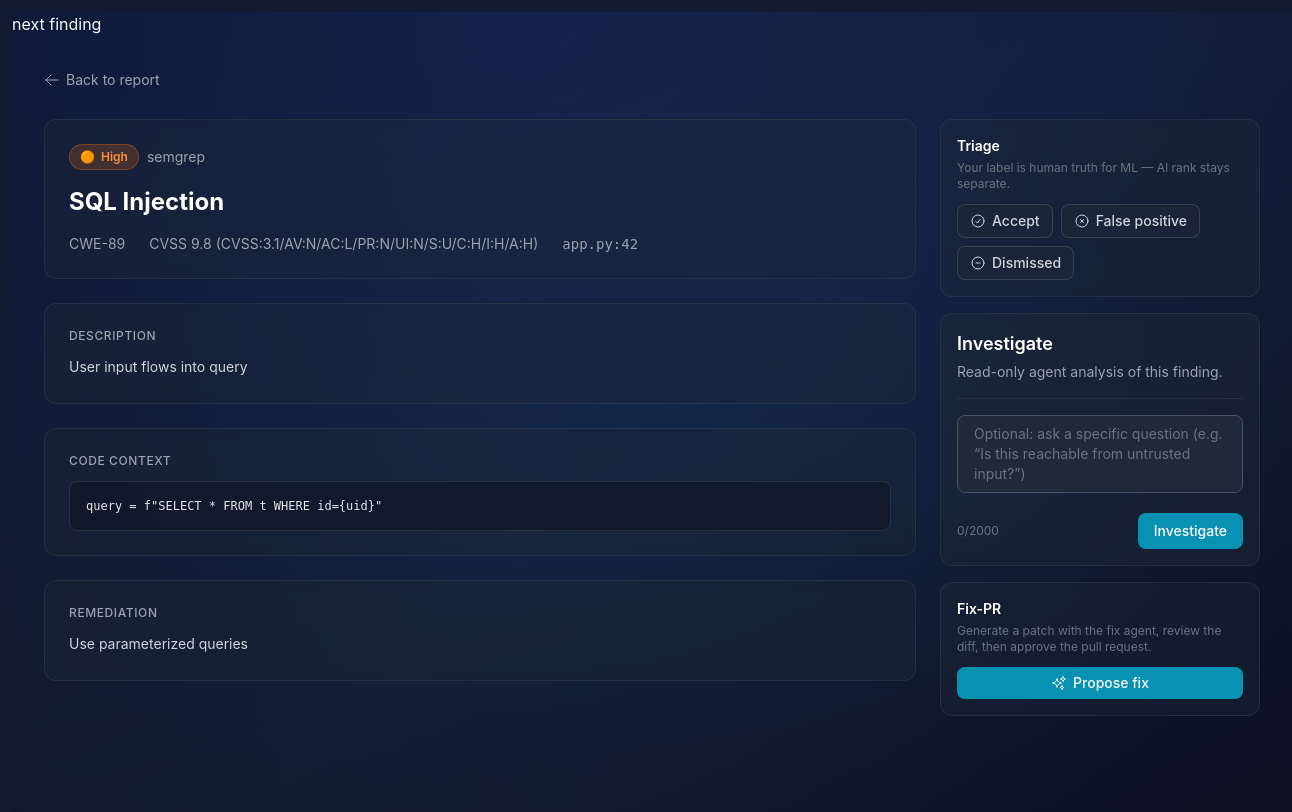
Test: FindingDetail › resets the investigate panel when navigating to another finding
This screenshot has width=1292, height=812.
Check: the heading "SQL Injection" is shown, box [69,187,224,216]
Check: the button "Investigate" is enabled, box [1138,513,1243,549]
Step 1. Type "why?" into the text box named "Investigation question" → (1100,454), box [957,415,1243,493]
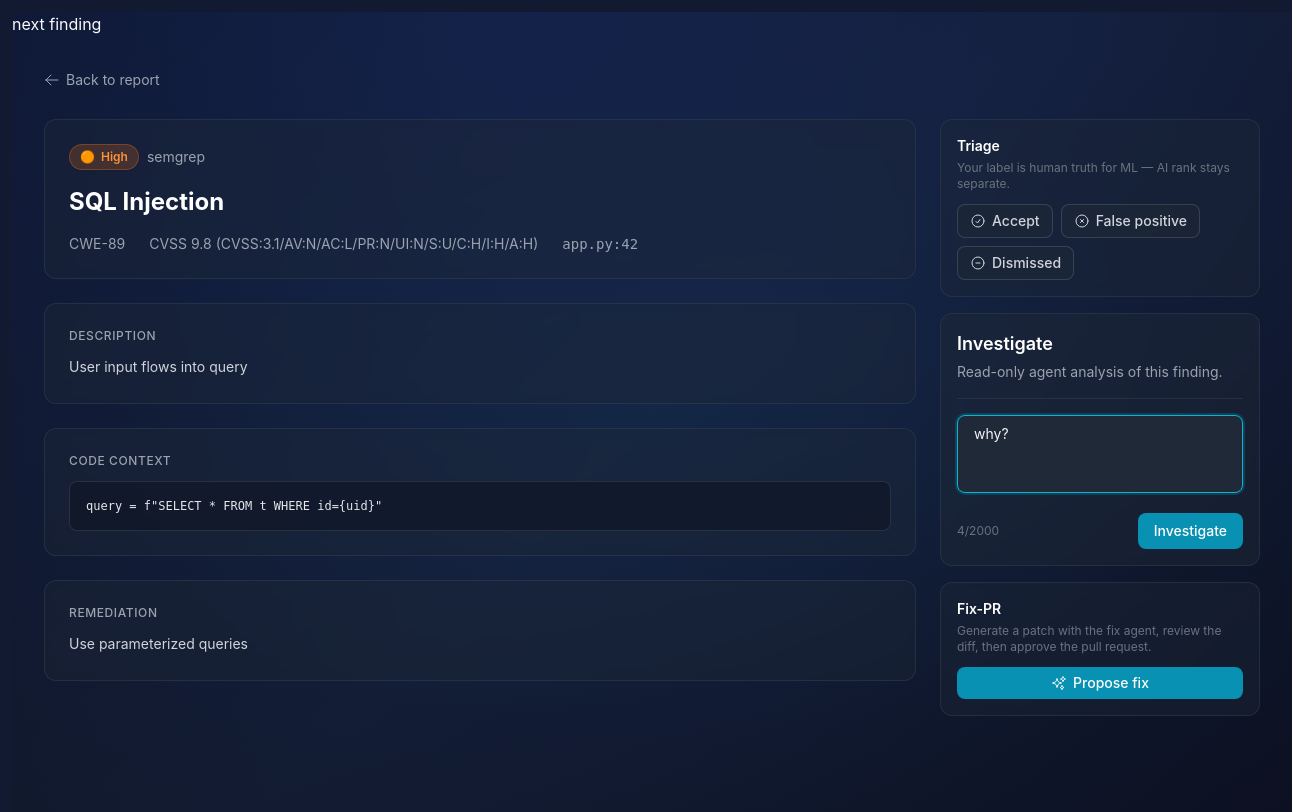
Step 2. Click the button "Investigate" → (1190,531), box [1138,513,1243,549]
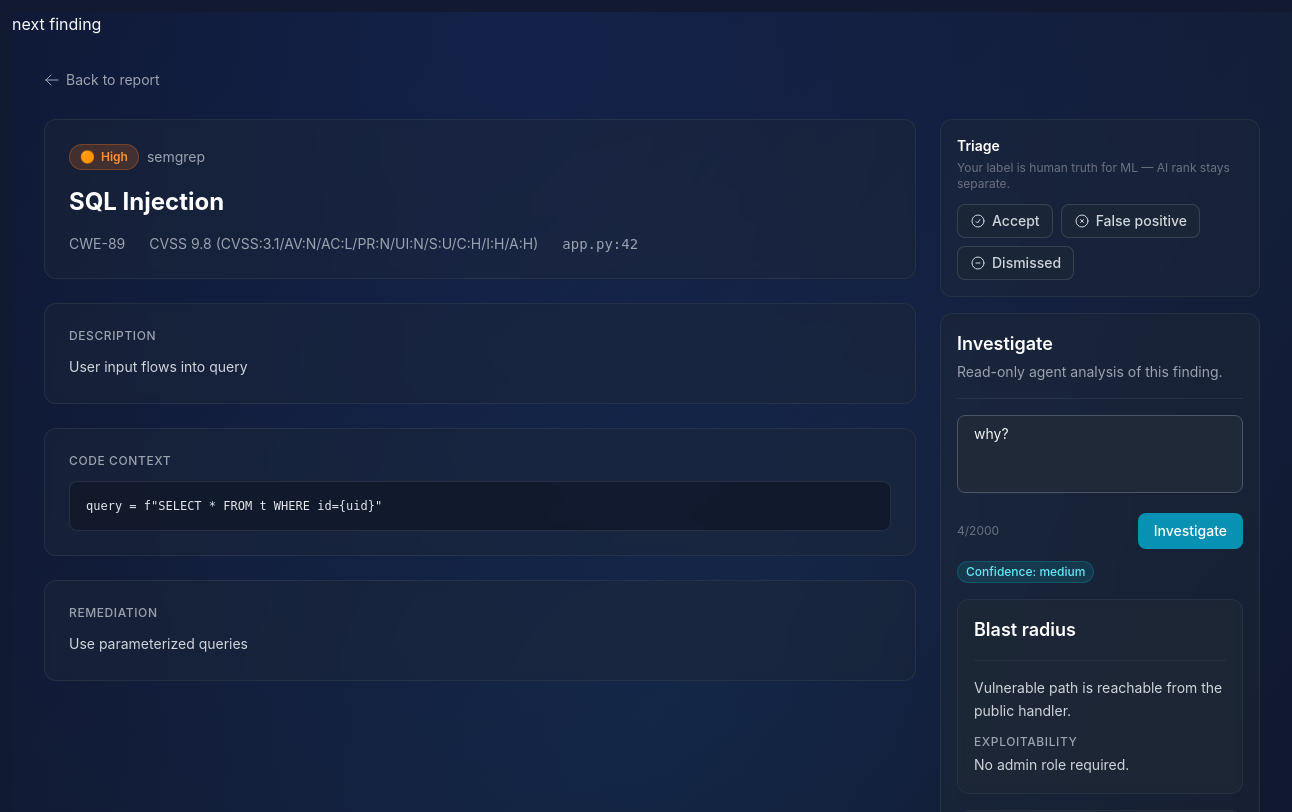
Check: the heading "Blast radius" is shown, box [974,619,1076,640]
Step 3. Click the link "next finding" → (57,24), box [12,14,101,34]
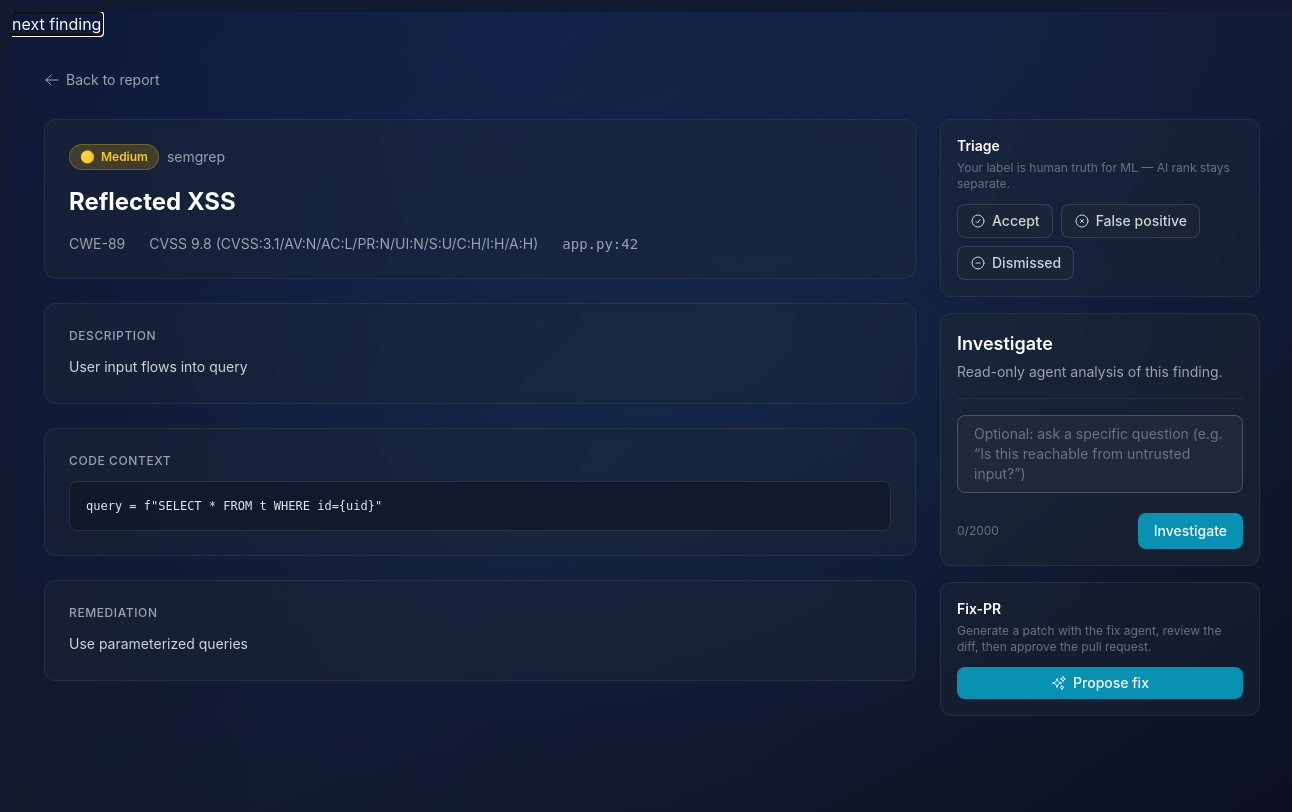
Check: the heading "Reflected XSS" is shown, box [69,187,236,216]
Check: the text box named "Investigation question" is empty, box [957,415,1243,493]
Check: the heading "Blast radius" is gone
